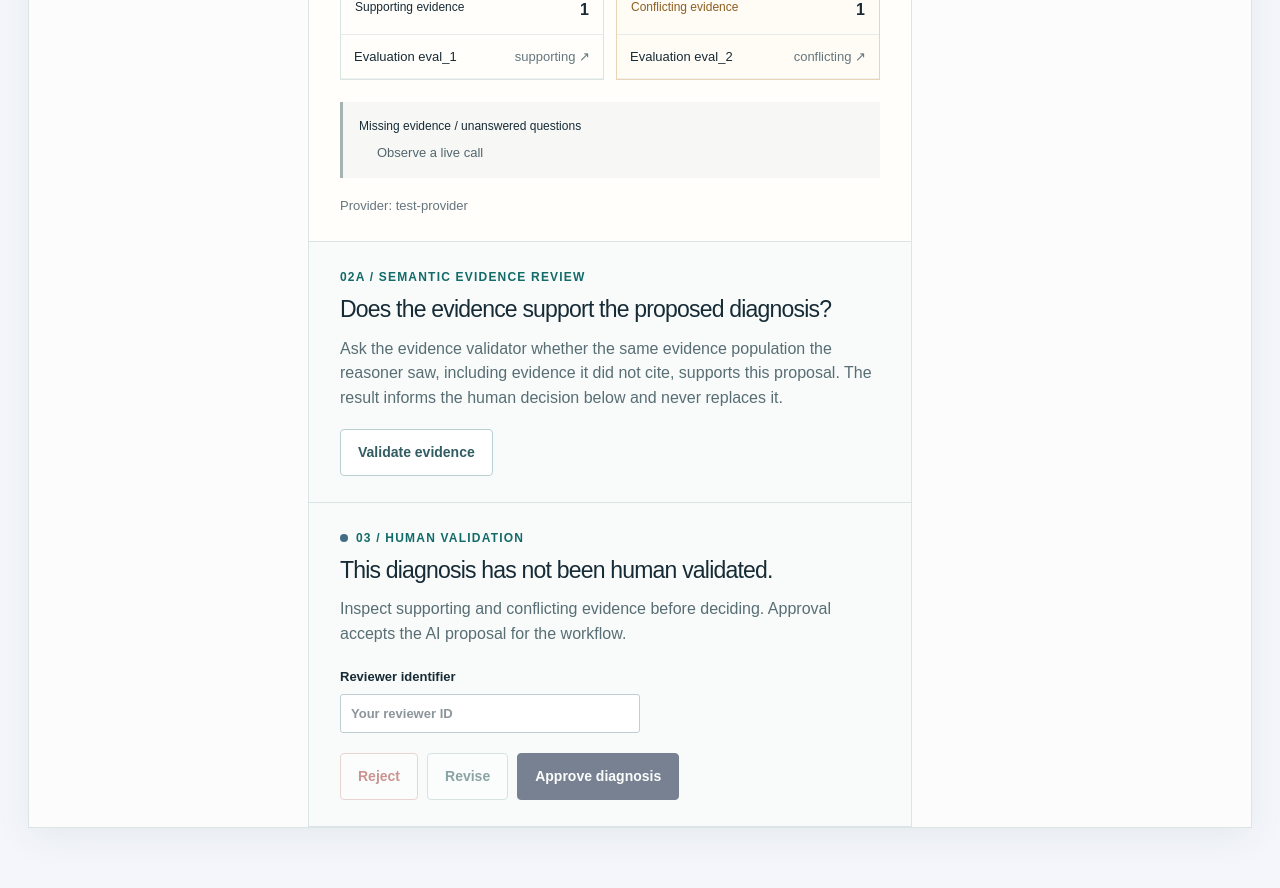
Test case: diagnostic review semantics › rejects through the API and never marks a rejection ready
(page scrolled)
Type "qa-1" into the field with placeholder "Your reviewer ID". click: (490,713)
box: [340,694,640,733]
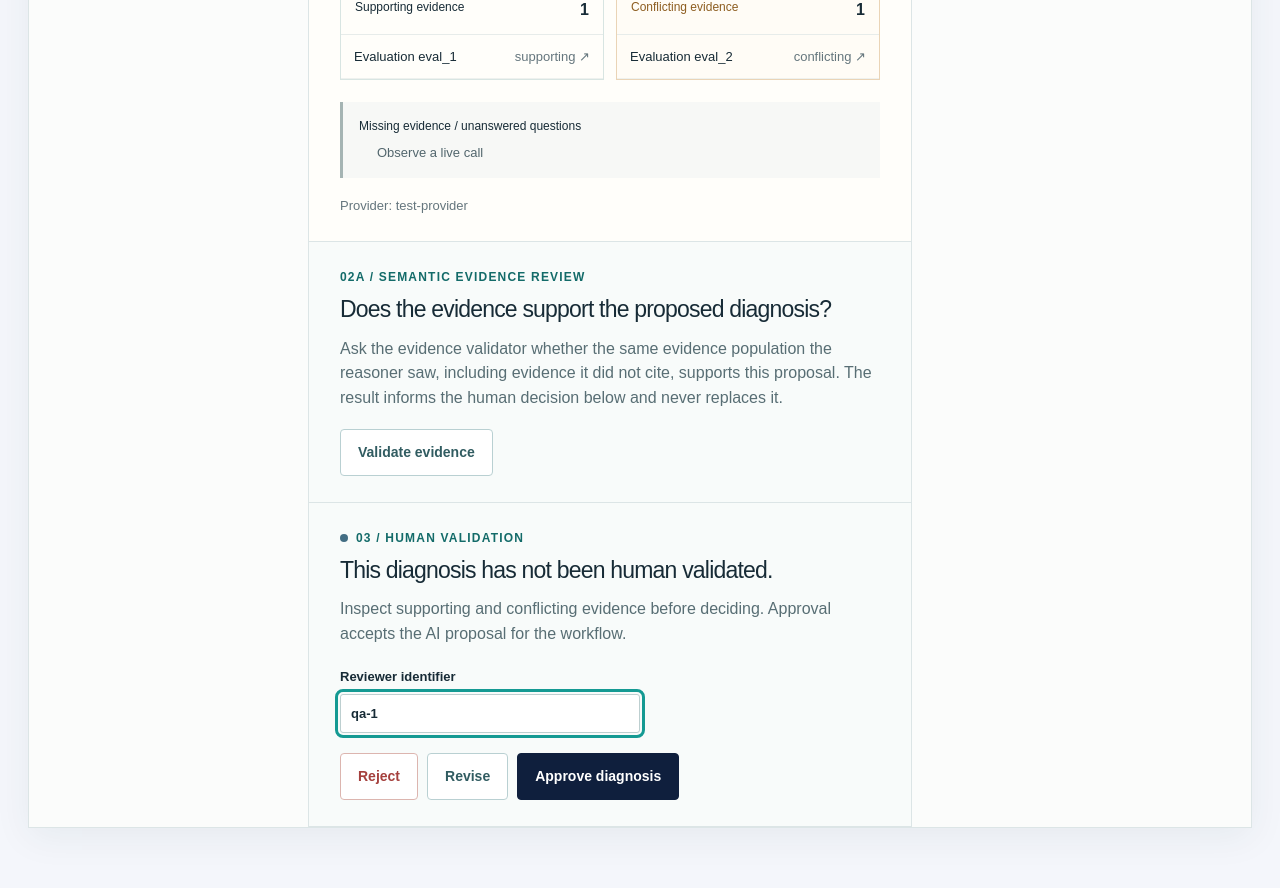
Click the button "Reject". click: (379,777)
box: [340,753,418,800]
(page scrolled)
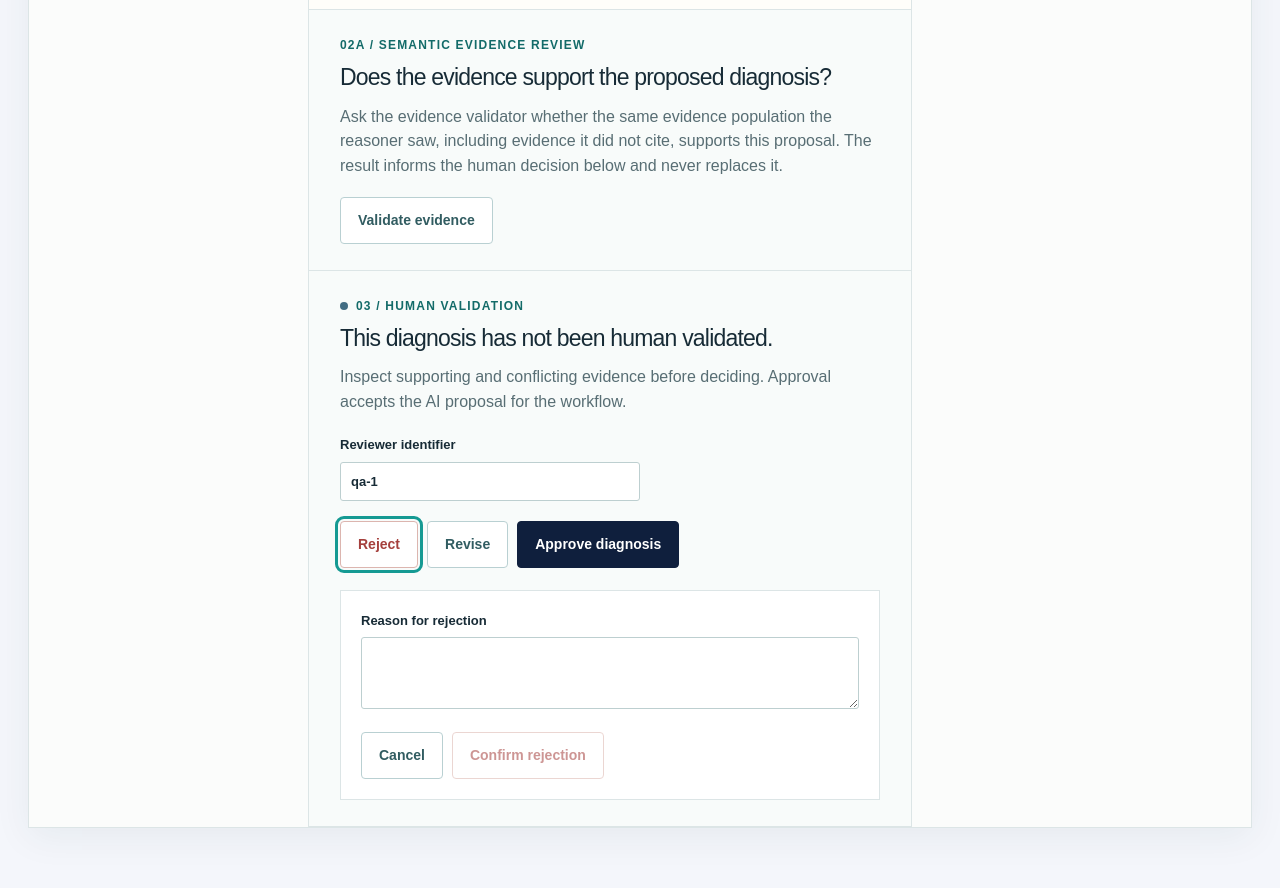
Type "Counterevidence" into the text box labelled "Reason for rejection". click: (610,673)
box: [361,637,859,709]
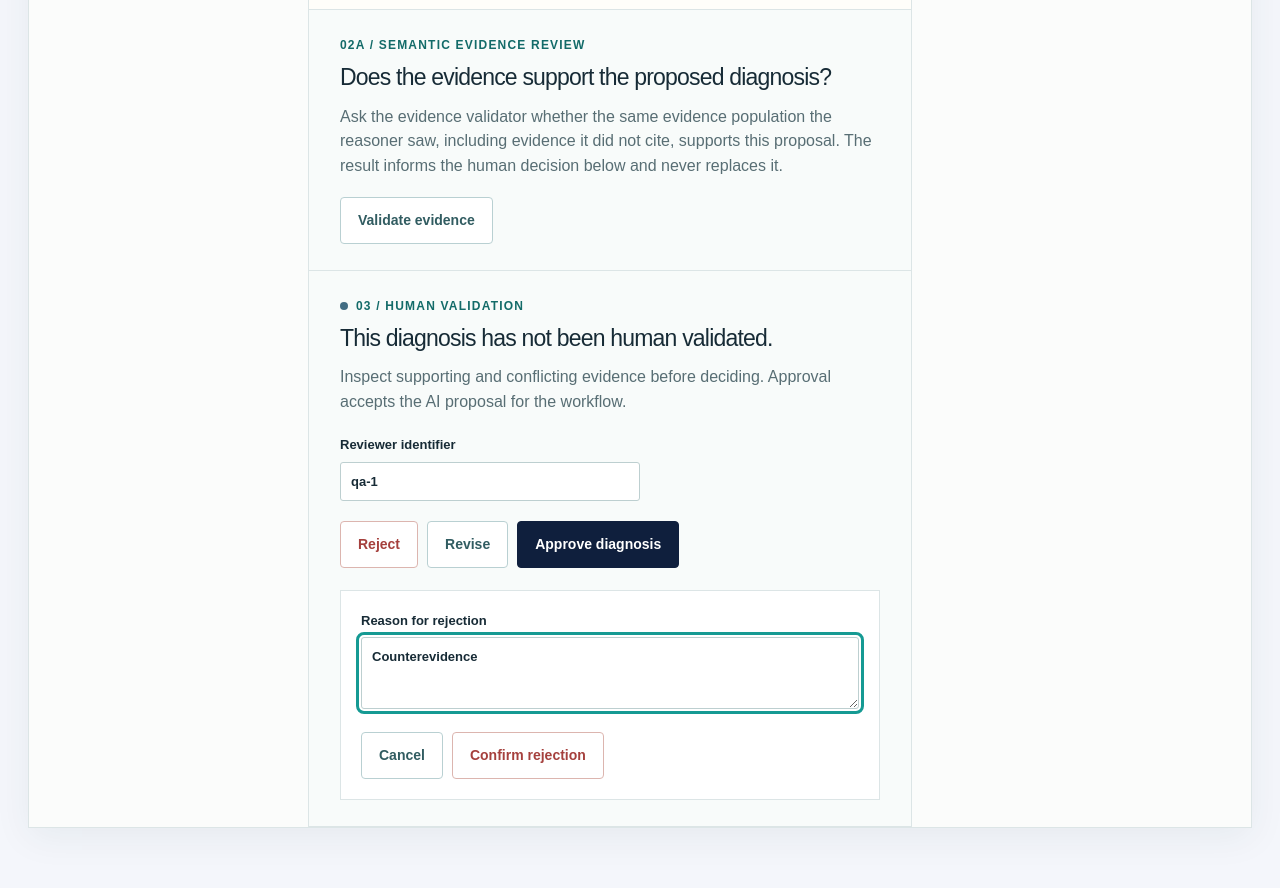
Click the button "Confirm rejection". click: (528,756)
box: [452,732,604,779]
(page scrolled)
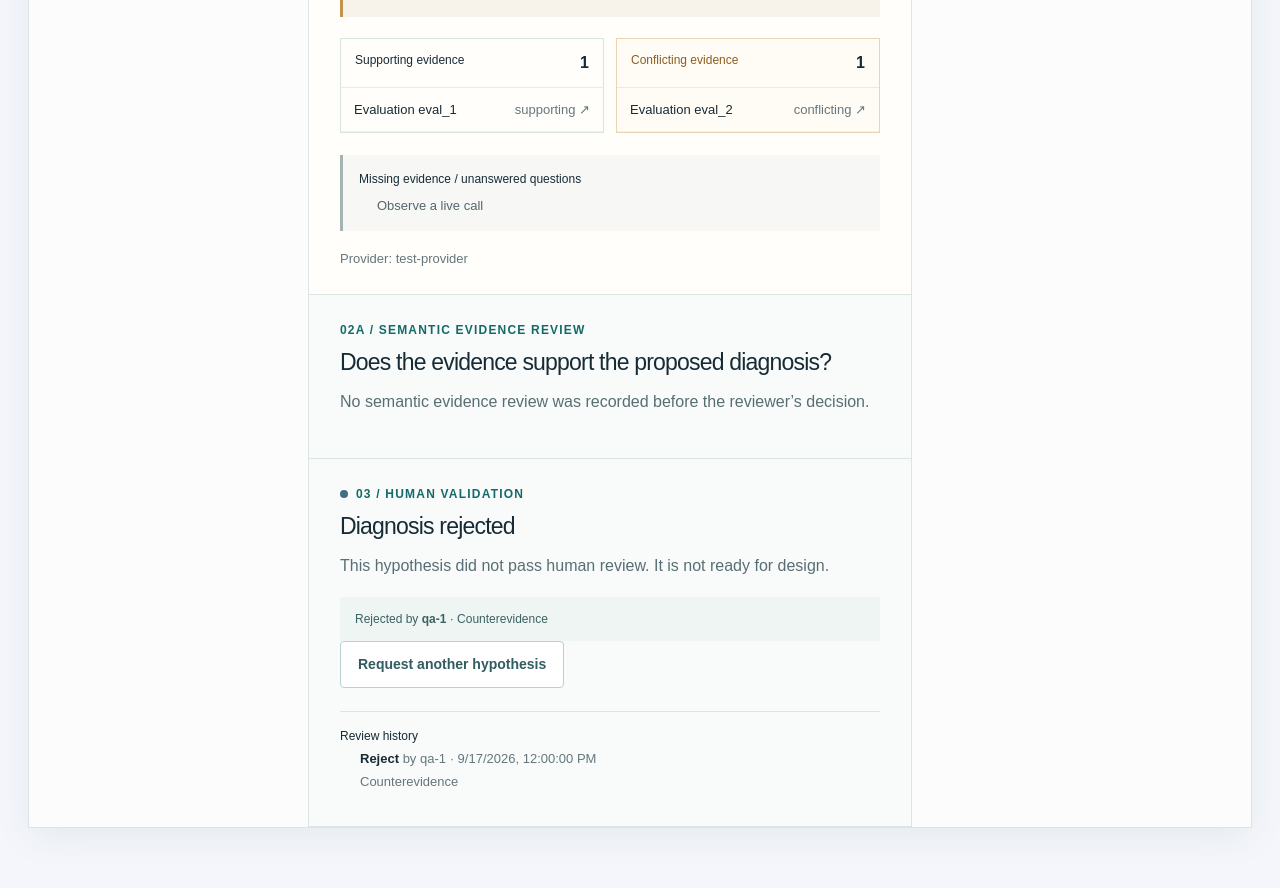
Result: the heading "Diagnosis rejected" is shown at [340,513,515,539]
